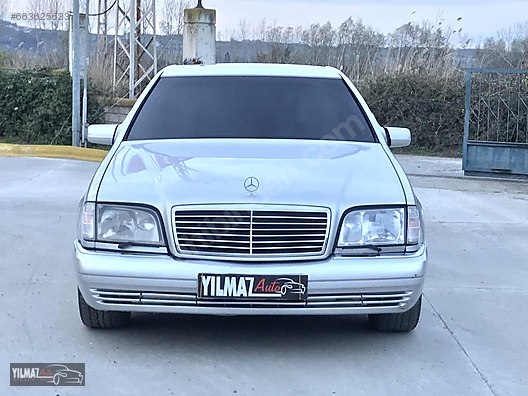m: (71, 58, 430, 336)
